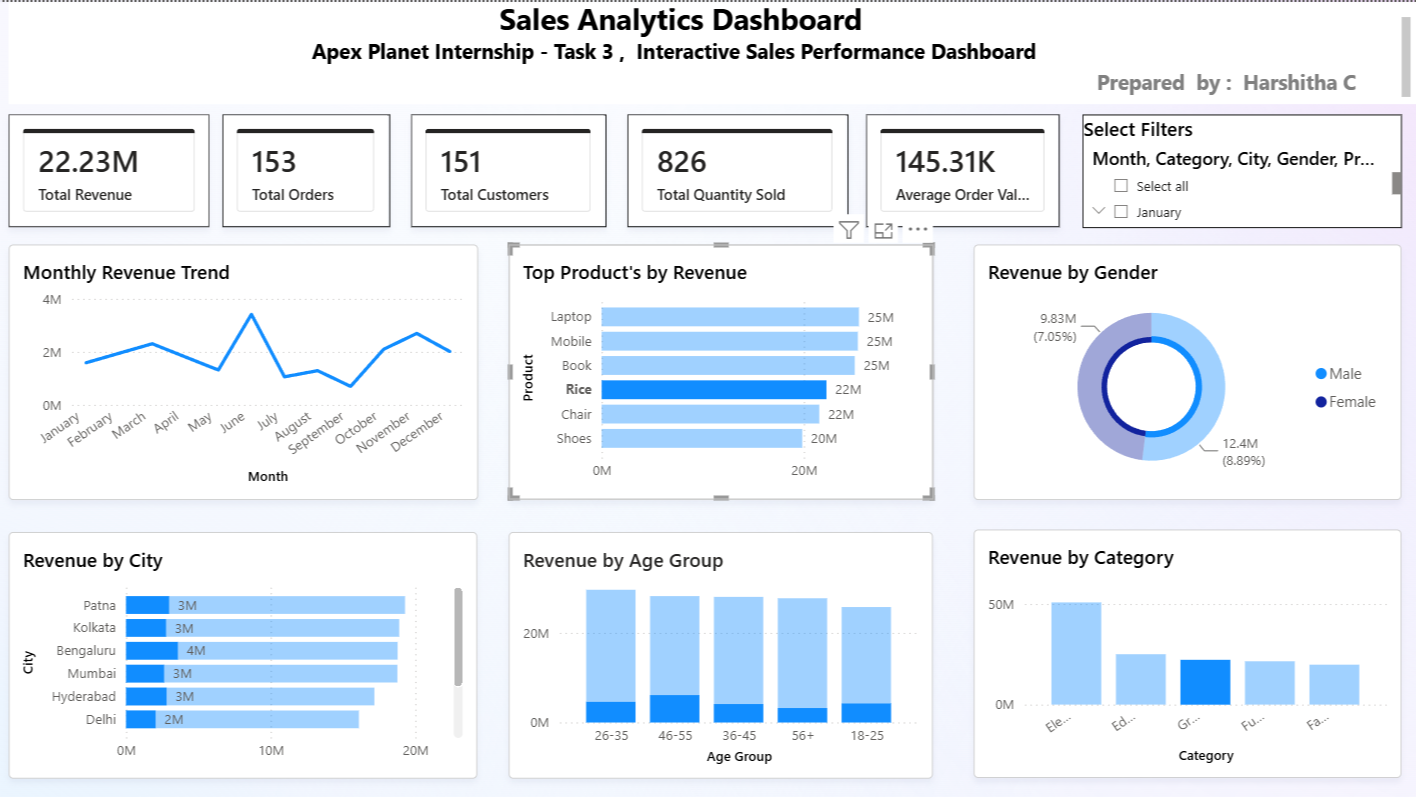

Layout of this report page (visuals, bound fields, positions):
{"tool":"powerbi","page":{"name":"Page 1","canvas":[1280,720],"ordinal":0},"visuals":[{"type":"cardVisual","fields":{"Data":["Sales_Dataset.Total Revenue"]},"box":[9.6,101.5,181.1,101.5],"z":0},{"type":"cardVisual","fields":{"Data":["Sales_Dataset.Total Orders"]},"box":[203.1,101.5,150.9,101.5],"z":1000},{"type":"cardVisual","fields":{"Data":["Sales_Dataset.Total Customers"]},"box":[373.2,101.5,175.6,101.5],"z":2000},{"type":"cardVisual","fields":{"Data":["Sales_Dataset.Average Order Value"]},"box":[783.5,101.5,174.3,101.5],"z":3000},{"type":"cardVisual","fields":{"Data":["Sales_Dataset.Total Quantity Sold"]},"box":[568.1,101.5,199,101.5],"z":4000},{"type":"clusteredColumnChart","title":" Revenue by Category","fields":{"Category":["Sales_Dataset.Category"],"Y":["Sales_Dataset.Total Revenue"]},"box":[880,475.7,385.7,224.3],"z":5000},{"type":"clusteredBarChart","title":" Revenue by City","fields":{"Category":["Sales_Dataset.City"],"Y":["Sales_Dataset.Total Revenue"]},"box":[10,477.5,422.5,222.5],"z":6000},{"type":"donutChart","title":" Revenue by Gender","fields":{"Category":["Sales_Dataset.Gender"],"Y":["Sales_Dataset.Total Revenue"]},"box":[880,218.6,385.7,230],"z":7000},{"type":"barChart","title":"Top Product''s  by Revenue ","fields":{"Category":["Sales_Dataset.Product"],"Y":["Sales_Dataset.Total Revenue"]},"box":[461.2,218.8,382.5,230],"z":8000},{"type":"clusteredColumnChart","title":" Revenue by Age Group","fields":{"Category":["Sales_Dataset.Age Group"],"Y":["Sales_Dataset.Total Revenue"]},"box":[461.2,477.5,382.5,222.5],"z":9000},{"type":"slicer","title":"Select Filters","fields":{"Values":["Sales_Dataset.Month","Sales_Dataset.Category","Sales_Dataset.City","Sales_Dataset.Gender","Sales_Dataset.Product"]},"box":[978,102,288,102],"z":10000},{"type":"textbox","box":[10,0,1270,92],"z":11000},{"type":"lineChart","title":"Monthly Revenue Trend","fields":{"Category":["Sales_Dataset.Month"],"Y":["Sales_Dataset.Total Revenue"]},"box":[10,218.6,422.9,230],"z":12000}]}

Visuals, with their boxes in screenshot pixels (x1, y1, x2, y2), scaled from the page's 1280x720 canvas onto the 1416x797 screenshot:
cardVisual - Sales_Dataset.Total Revenue: [left=11, top=112, right=211, bottom=225]
cardVisual - Sales_Dataset.Total Orders: [left=225, top=112, right=392, bottom=225]
cardVisual - Sales_Dataset.Total Customers: [left=413, top=112, right=607, bottom=225]
cardVisual - Sales_Dataset.Average Order Value: [left=867, top=112, right=1060, bottom=225]
cardVisual - Sales_Dataset.Total Quantity Sold: [left=628, top=112, right=849, bottom=225]
" Revenue by Category" clusteredColumnChart: [left=974, top=527, right=1400, bottom=775]
" Revenue by City" clusteredBarChart: [left=11, top=529, right=478, bottom=775]
" Revenue by Gender" donutChart: [left=974, top=242, right=1400, bottom=497]
"Top Product''s  by Revenue " barChart: [left=510, top=242, right=933, bottom=497]
" Revenue by Age Group" clusteredColumnChart: [left=510, top=529, right=933, bottom=775]
"Select Filters" slicer: [left=1082, top=113, right=1401, bottom=226]
textbox: [left=11, top=0, right=1415, bottom=102]
"Monthly Revenue Trend" lineChart: [left=11, top=242, right=479, bottom=497]
